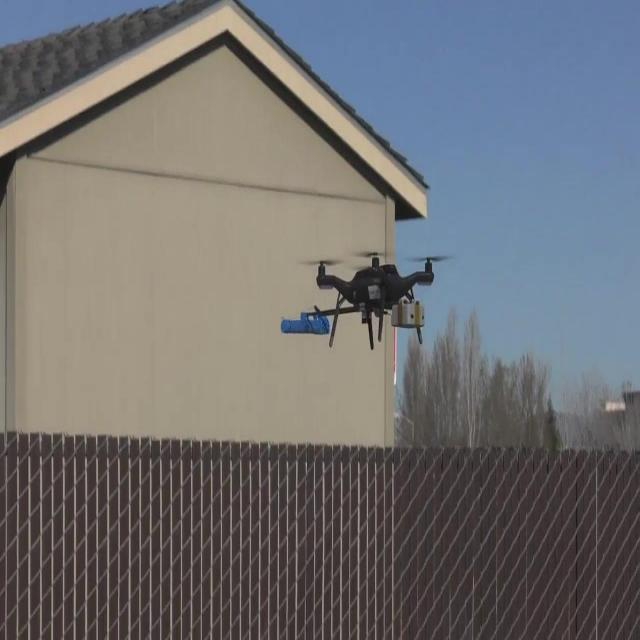UAV: (314, 252, 455, 350)
